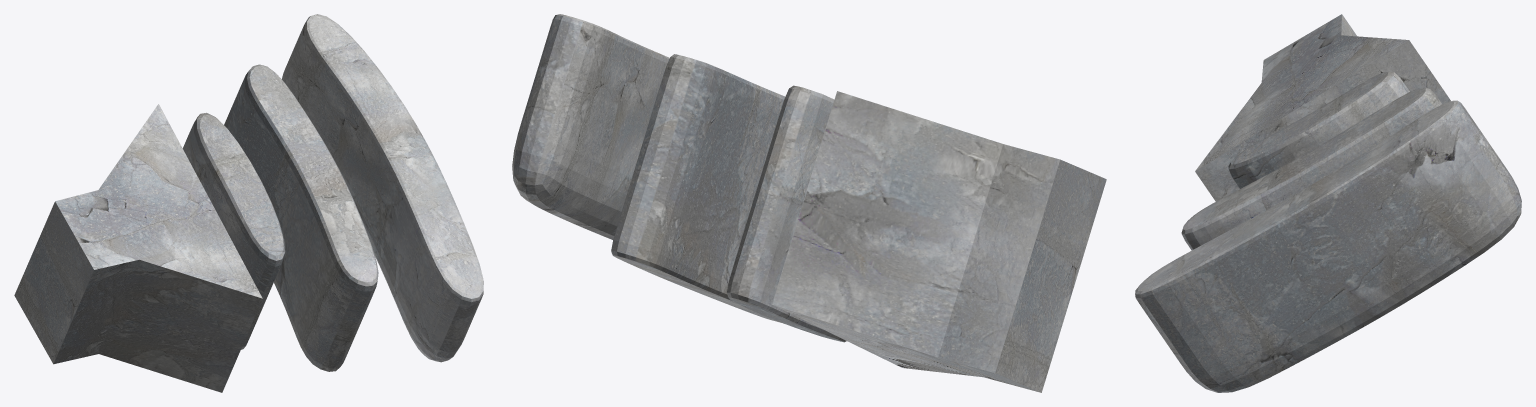
File: MainMenu_AudioLoud.fbx
The picture shows the model from 3 angles, left to right: view 1: azimuth 30°, elevation 25°; view 2: azimuth 150°, elevation 25°; view 3: azimuth 270°, elevation 25°; orthographic projection. The views are drawn at different scales.
Parts seen in each view (by area): view 1: SoundWaves; view 2: SoundWaves; view 3: SoundWaves.
Part boxes in pixels (left/top/right/bottom): SoundWaves: left=14, top=14, right=483, bottom=392; SoundWaves: left=512, top=14, right=1106, bottom=392; SoundWaves: left=1135, top=14, right=1521, bottom=392.
Size of the model in its own units: 2.28 by 1.71 by 2.02.
1 material, 1 textured.
